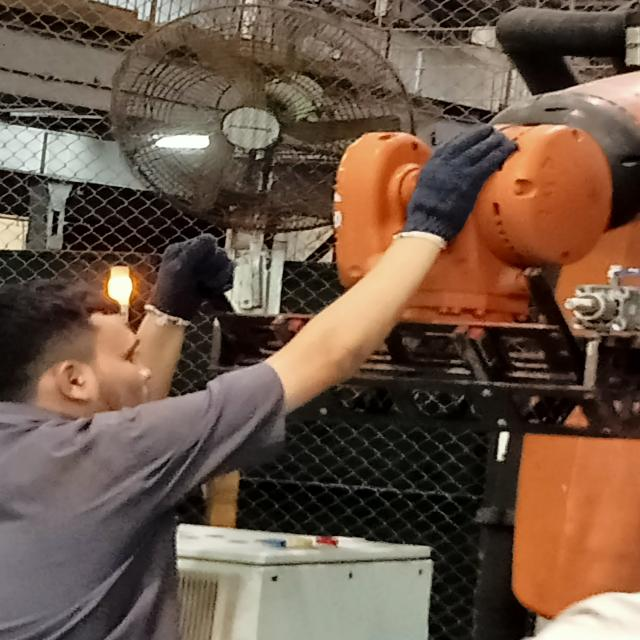Gloves-Detection: (388, 117, 516, 250), (149, 235, 246, 321)
